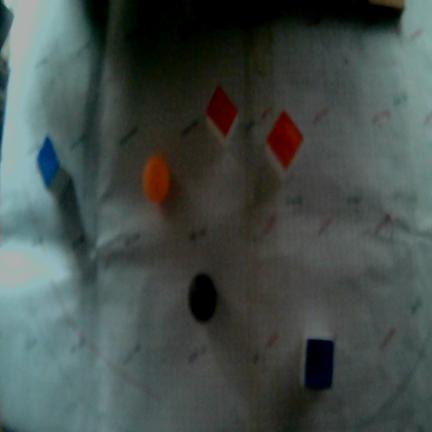circle_blue: (188, 274, 217, 324)
circle_orange: (142, 156, 170, 204)
rectangle_blue: (35, 135, 60, 189)
rectangle_orange: (206, 81, 239, 135)
square_blue: (305, 340, 334, 389)
square_orange: (267, 112, 302, 170)
